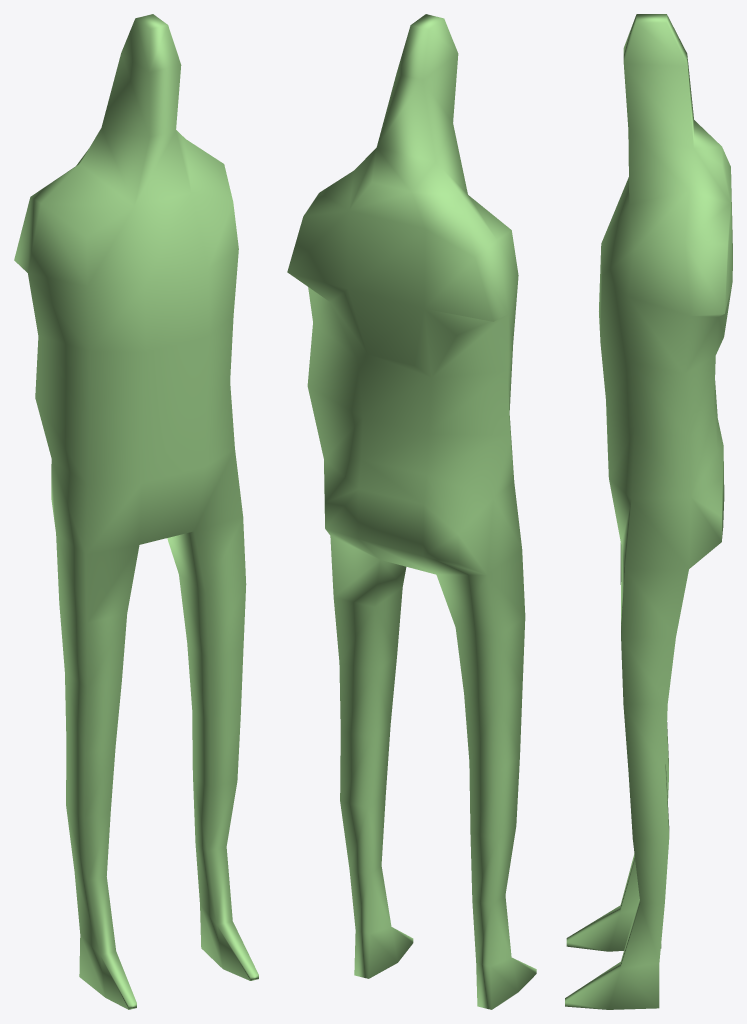
Rendered from sm_man.glb.
3 renders of one model, left to right at view 1: azimuth 30°, elevation 25°; view 2: azimuth 150°, elevation 25°; view 3: azimuth 270°, elevation 25°, orthographic. The views are drawn at different scales.
Visible parts, largest first — view 1: Man; view 2: Man; view 3: Man.
Boxes of the visible parts, <box> form: Man: <box>14,14,258,1009</box>; Man: <box>287,14,536,1009</box>; Man: <box>565,14,732,1009</box>.
Bounding box in the file's own units: 0.3866 × 1.73 × 0.274.
